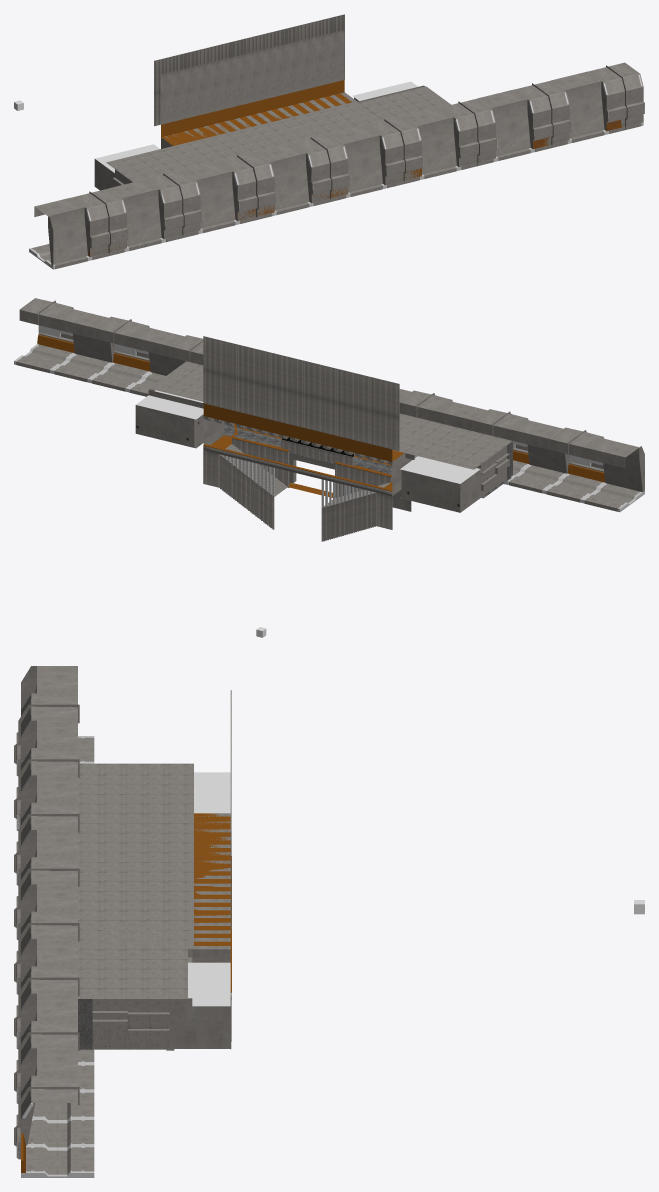
The model's file is Subway_1.fbx.
The picture shows the model from 3 angles, top to bottom: view 1: azimuth 30°, elevation 25°; view 2: azimuth 150°, elevation 25°; view 3: azimuth 270°, elevation 25°; orthographic projection. The views are drawn at different scales.
Parts seen in each view (by area): view 1: Cube.068, Cube.545, Subway_1.001|Plane.121|Dupli|, Subway_1.007|Plane.121|Dupli|, Plane.121, Subway_1.002|Plane.121|Dupli|, Subway_1.003|Plane.121|Dupli|, Subway_1.006|Plane.121|Dupli|, Subway_1.005|Plane.121|Dupli|, Subway_1|Plane.121|Dupli|, Subway_2.006|Plane.122|Dupli|1, Subway_2.001|Plane.122|Dupli|1 (+21 smaller); view 2: Cube.068, Cube.545, Plane.132, MF_1|Plane.132|Dupli|4, Lam_1|Cube.141|Dupli|, Cube.141, Subway_1.006|Plane.121|Dupli|, Subway_1.005|Plane.121|Dupli|, Subway_2.006|Plane.122|Dupli|1, Subway_1.007|Plane.121|Dupli|, Plane.121, Plane.139 (+56 smaller); view 3: Cube.068, Cube.545, MF_1|Plane.102|Dupli|2, MF_1|Plane.132|Dupli|4, Cube.238, Subway_1.006|Plane.121|Dupli|, Subway_1.002|Plane.121|Dupli|, Subway_1.007|Plane.121|Dupli|, Subway_1.003|Plane.121|Dupli|, Subway_1.005|Plane.121|Dupli|, Subway_1.001|Plane.121|Dupli|, MF_1|Plane.139|Dupli|5 (+18 smaller).
Boxes of the visible parts, x1=… form: Cube.068: x1=106, y1=30, x2=451, y2=182; Cube.545: x1=161, y1=80, x2=351, y2=145; Subway_1.001|Plane.121|Dupli|: x1=293, y1=134, x2=349, y2=202; Subway_1.007|Plane.121|Dupli|: x1=72, y1=188, x2=128, y2=257; Plane.121: x1=145, y1=170, x2=201, y2=239; Subway_1.002|Plane.121|Dupli|: x1=367, y1=116, x2=423, y2=184; Subway_1.003|Plane.121|Dupli|: x1=440, y1=98, x2=496, y2=167; Subway_1.006|Plane.121|Dupli|: x1=588, y1=62, x2=644, y2=127; Subway_1.005|Plane.121|Dupli|: x1=514, y1=80, x2=570, y2=145; Subway_1|Plane.121|Dupli|: x1=219, y1=152, x2=275, y2=220; Subway_2.006|Plane.122|Dupli|1: x1=48, y1=207, x2=89, y2=265; Subway_2.001|Plane.122|Dupli|1: x1=343, y1=135, x2=385, y2=192; Cube.068: x1=149, y1=361, x2=512, y2=469; Cube.545: x1=203, y1=403, x2=403, y2=461; Plane.132: x1=401, y1=469, x2=480, y2=512; MF_1|Plane.132|Dupli|4: x1=135, y1=405, x2=203, y2=447; Lam_1|Cube.141|Dupli|: x1=218, y1=454, x2=274, y2=529; Cube.141: x1=321, y1=492, x2=377, y2=541; Subway_1.006|Plane.121|Dupli|: x1=19, y1=298, x2=73, y2=342; Subway_1.005|Plane.121|Dupli|: x1=95, y1=316, x2=149, y2=361; Subway_2.006|Plane.122|Dupli|1: x1=602, y1=437, x2=644, y2=492; Subway_1.007|Plane.121|Dupli|: x1=550, y1=427, x2=603, y2=472; Plane.121: x1=474, y1=409, x2=528, y2=453; Plane.139: x1=400, y1=456, x2=479, y2=483; Cube.068: x1=78, y1=763, x2=193, y2=998; Cube.545: x1=194, y1=813, x2=230, y2=945; MF_1|Plane.102|Dupli|2: x1=92, y1=999, x2=169, y2=1048; MF_1|Plane.132|Dupli|4: x1=169, y1=1006, x2=230, y2=1048; Cube.238: x1=192, y1=813, x2=230, y2=957; Subway_1.006|Plane.121|Dupli|: x1=14, y1=1075, x2=79, y2=1159; Subway_1.002|Plane.121|Dupli|: x1=14, y1=911, x2=79, y2=994; Subway_1.007|Plane.121|Dupli|: x1=14, y1=693, x2=79, y2=775; Subway_1.003|Plane.121|Dupli|: x1=14, y1=966, x2=79, y2=1048; Subway_1.005|Plane.121|Dupli|: x1=14, y1=1021, x2=79, y2=1103; Subway_1.001|Plane.121|Dupli|: x1=14, y1=857, x2=79, y2=939; MF_1|Plane.139|Dupli|5: x1=188, y1=962, x2=230, y2=1006.
Bounding box in the file's own units: 12860 × 3574 × 7851.
